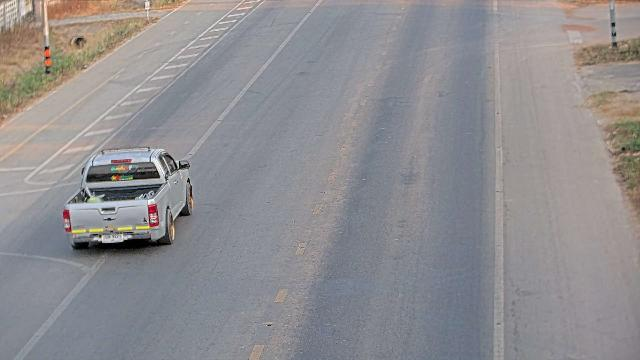pickup-truck: (61, 146, 194, 249)
